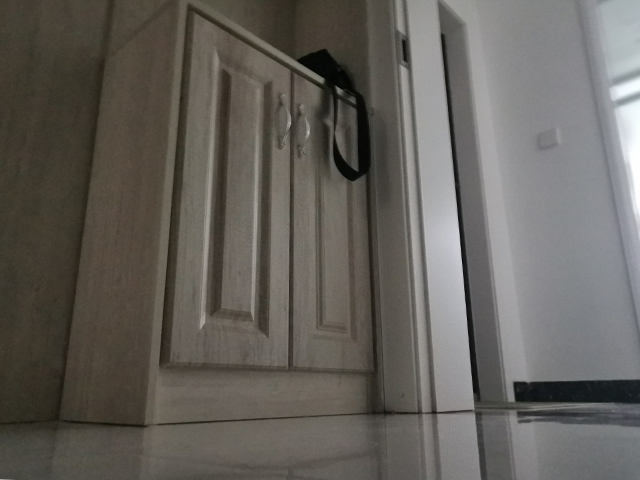cabinet: (57, 1, 389, 429)
carpet: (474, 401, 612, 411)
